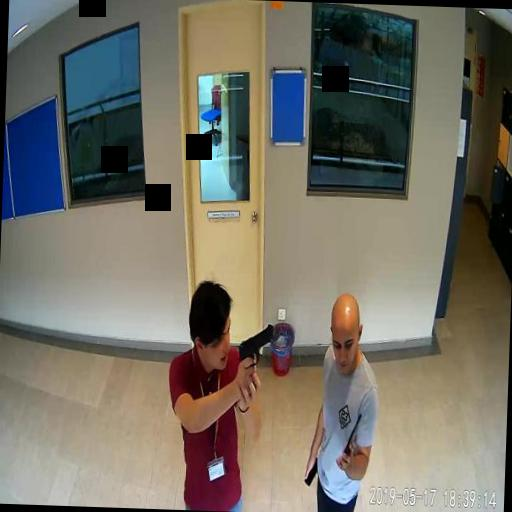Handgun: (236, 320, 272, 392)
